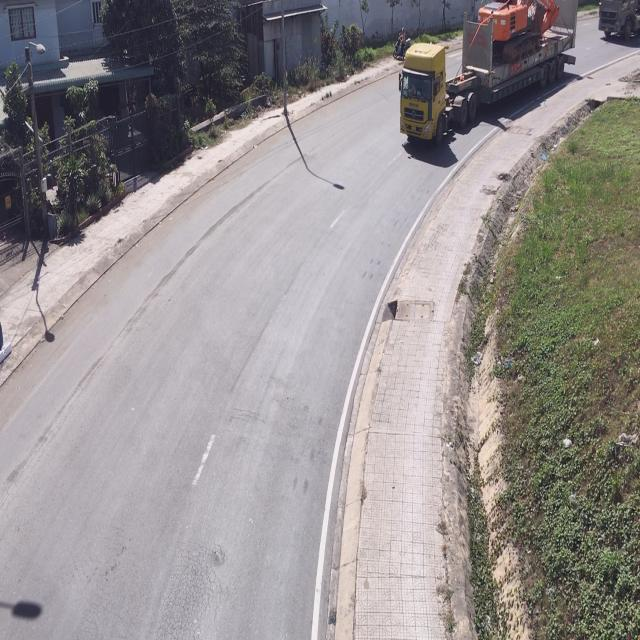motorbike: (393, 27, 410, 60)
truck: (396, 3, 574, 139), (600, 0, 640, 44)
